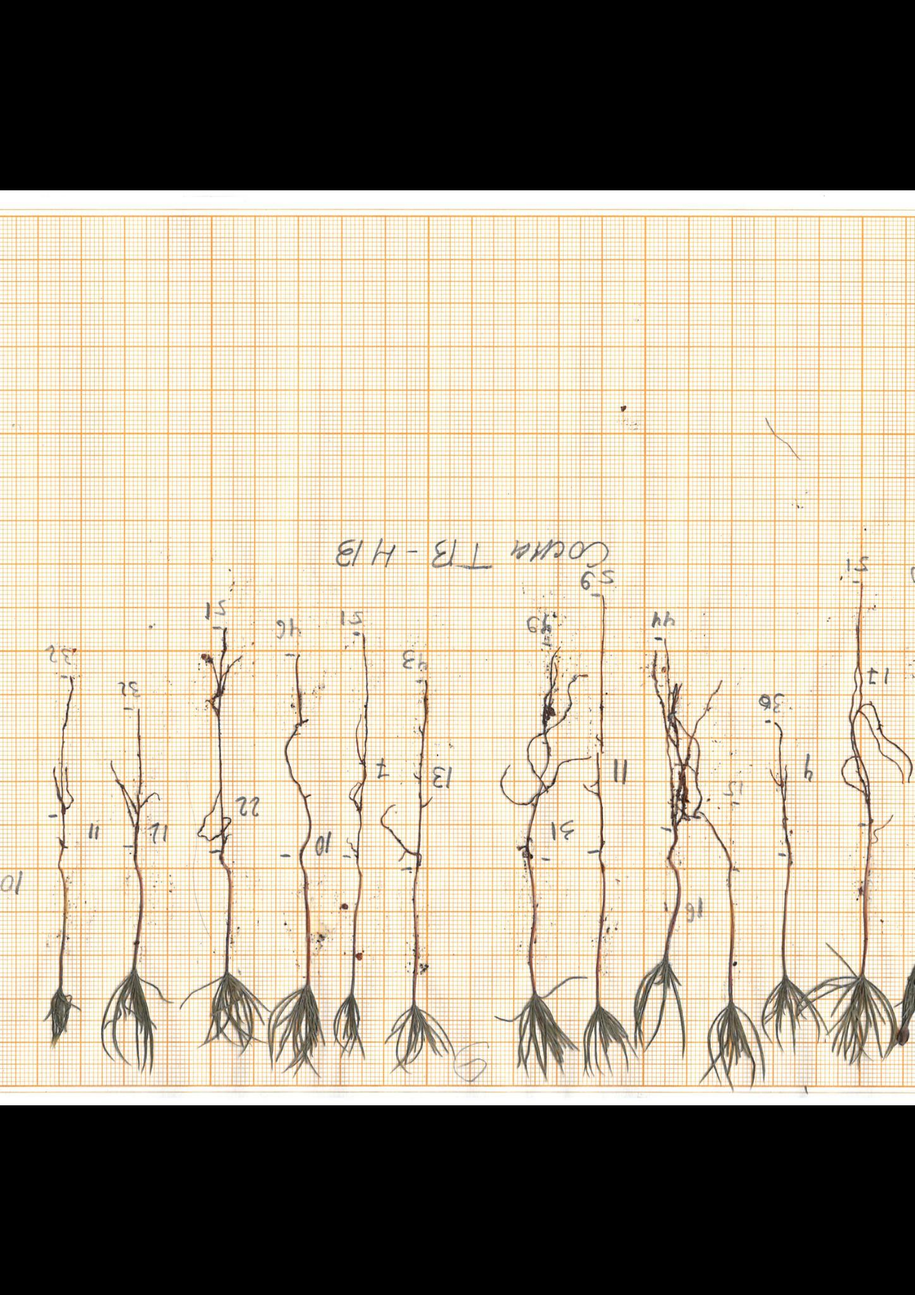pinus: (816, 578, 914, 1062), (492, 646, 594, 1080), (177, 625, 266, 1056), (622, 631, 700, 1063), (379, 676, 459, 1071), (572, 599, 636, 1078), (91, 704, 172, 1077), (264, 649, 329, 1081), (688, 807, 766, 1089), (325, 617, 374, 1059), (760, 715, 825, 1047), (37, 670, 87, 1050), (896, 737, 915, 1052)
